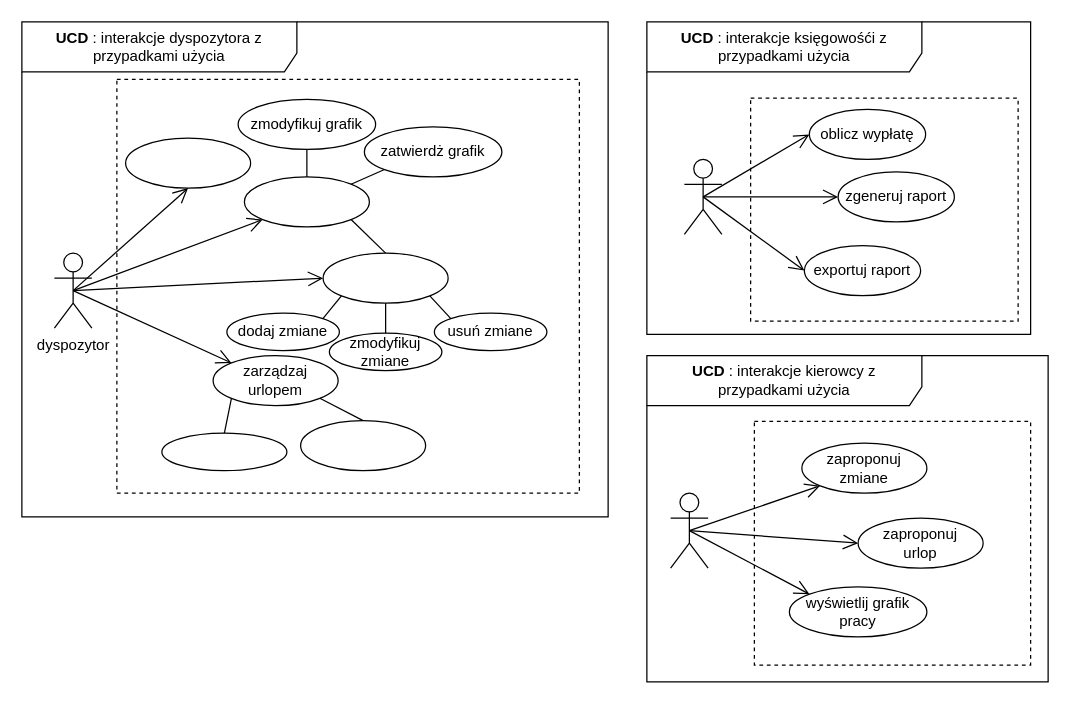
Image size: 1070x704. Some labels were removed from this diagram. Each missing label, with the centre of its shape:
"dodaj nowego pracownika" belongs at [187,162].
"kierowca" belongs at [688,530].
"Księgowy" belongs at [702,196].
"zaproponuj inny termin" belongs at [362,445].
"zarządzaj grafikiem" belongs at [385,277].
"zatwierdż urlop" belongs at [224,451].
"zgeneruj grafik pracy" belongs at [306,201].
